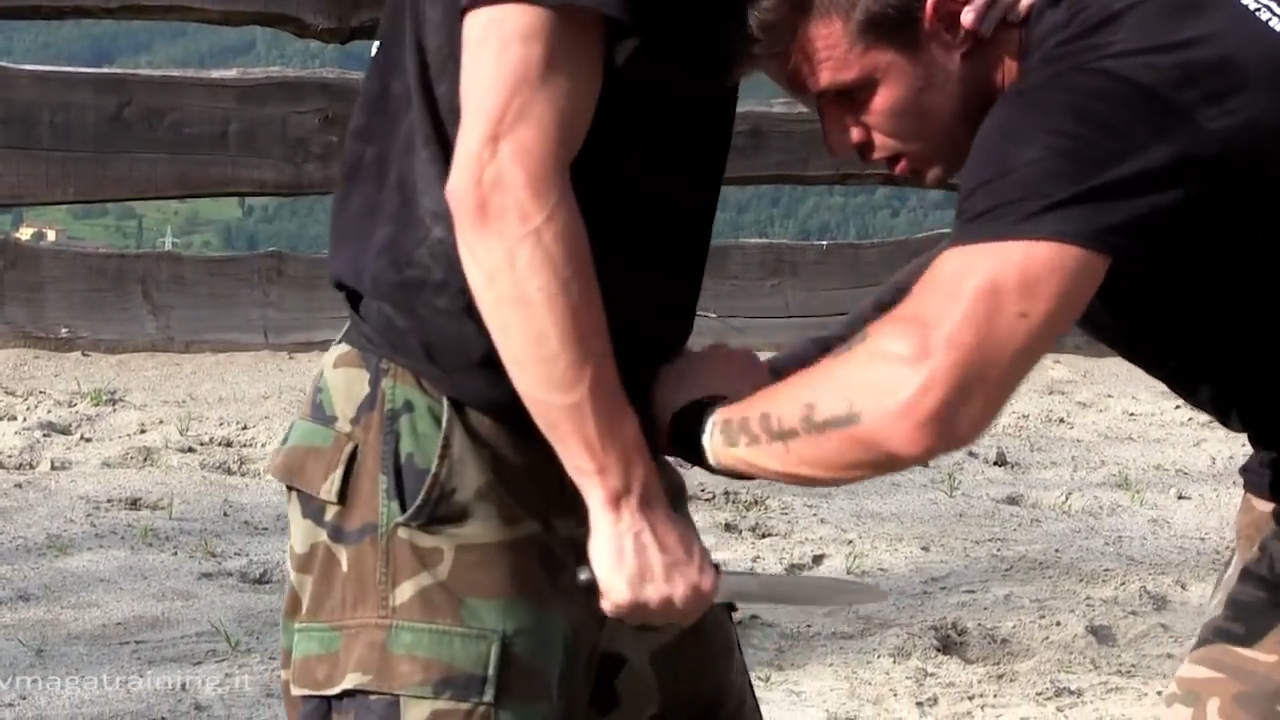knife: (568, 542, 904, 633)
